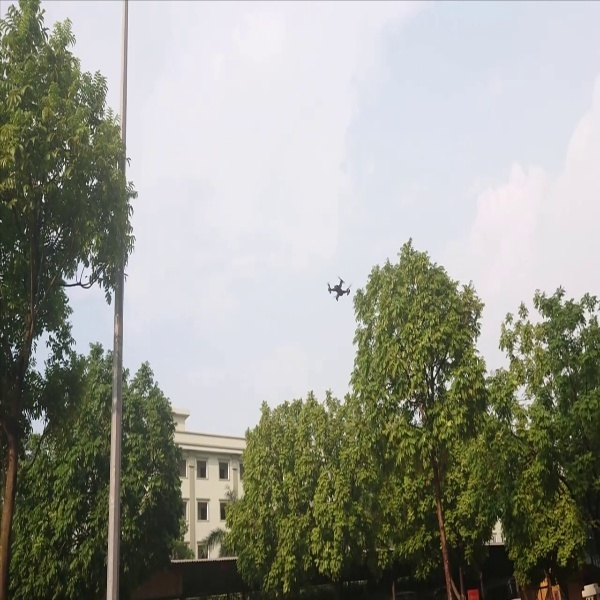drone: (326, 270, 356, 305)
